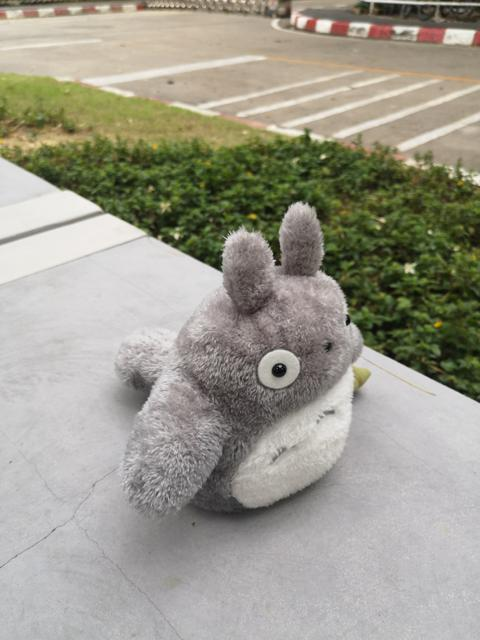totoro: (109, 200, 376, 529)
